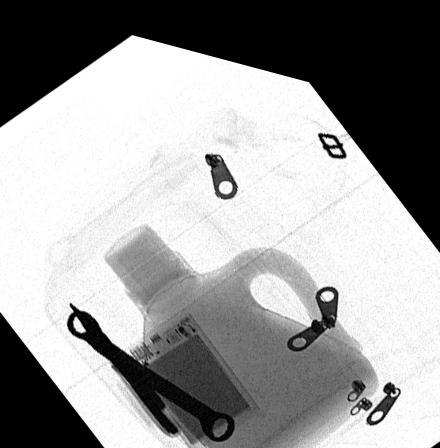Pliers: (66, 294, 177, 427)
Powerbank: (123, 300, 262, 445)
Wrench: (62, 302, 235, 431)
